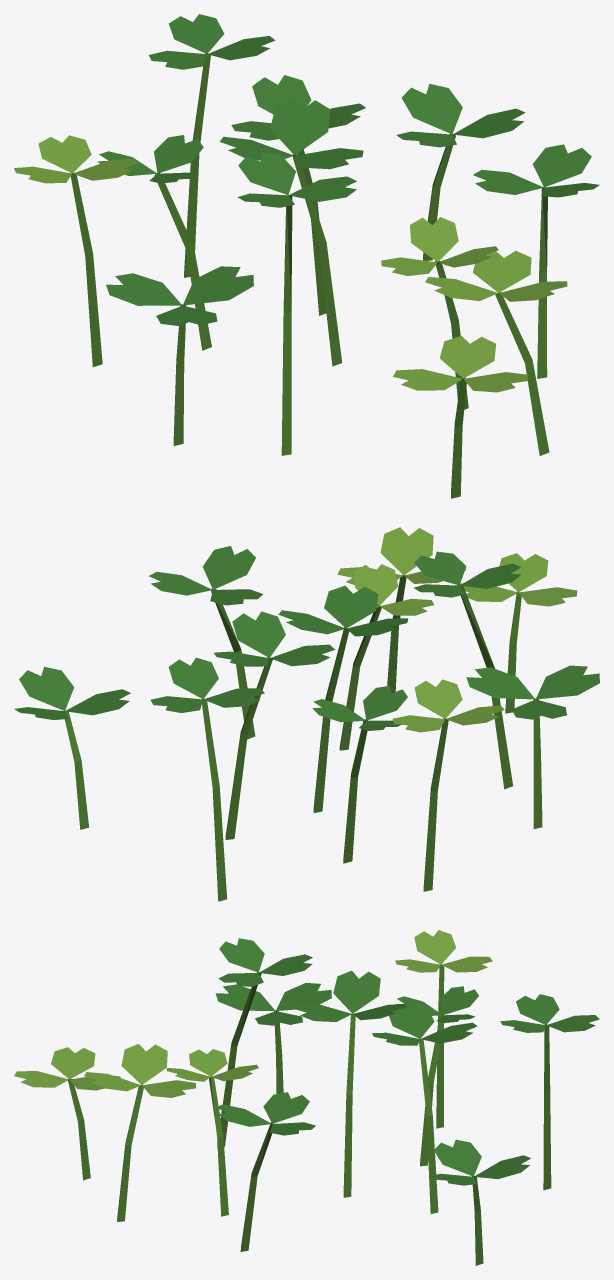
File: clover_patch_large.fbx
The picture shows the model from 3 angles, top to bottom: view 1: azimuth 30°, elevation 25°; view 2: azimuth 150°, elevation 25°; view 3: azimuth 270°, elevation 25°; orthographic projection. The views are drawn at different scales.
Visible parts, largest first — view 1: clover_patch_large; view 2: clover_patch_large; view 3: clover_patch_large.
Boxes of the visible parts, left/top/right/bottom form: clover_patch_large: left=14, top=14, right=599, bottom=498; clover_patch_large: left=14, top=527, right=599, bottom=901; clover_patch_large: left=14, top=930, right=599, bottom=1265.
Size of the model in its own units: 22.47 by 10.46 by 28.07.
Materials: 1 (1 with a texture image).
